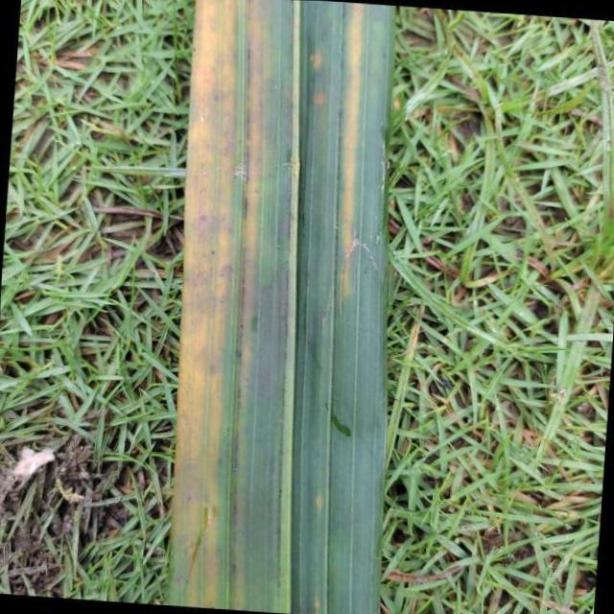Megnesium: (168, 0, 393, 614)
